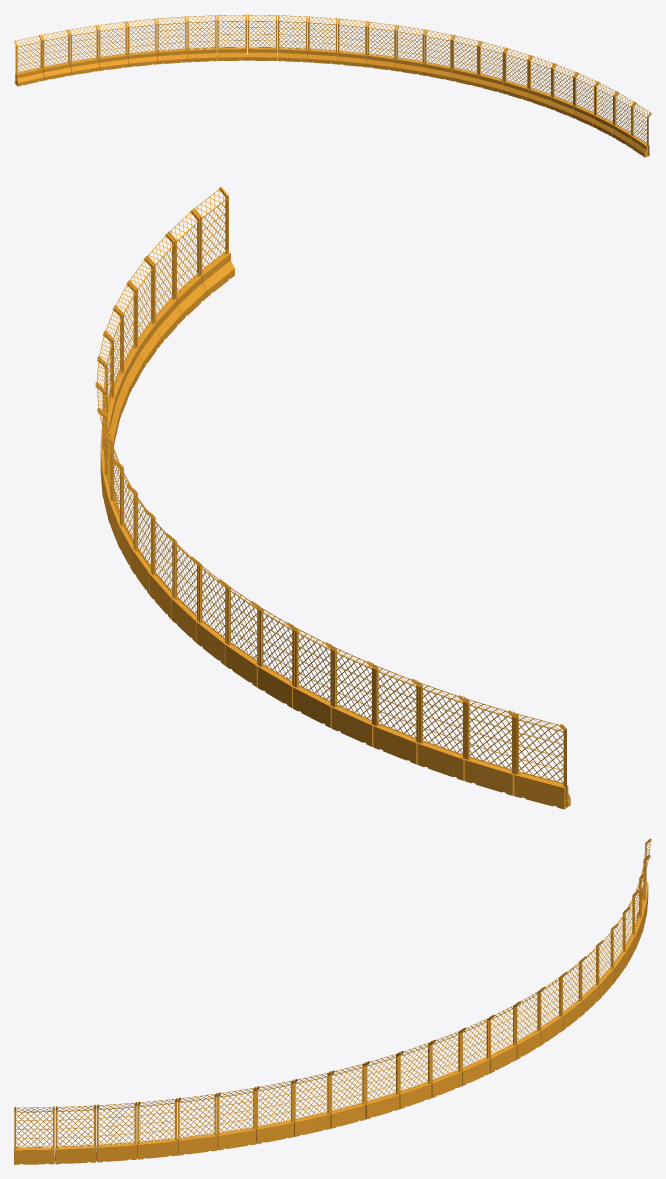
File: SM_Fence_Road_Debrisguard_Net_40m_Corner_Inner.fbx
The picture shows the model from 3 angles, top to bottom: view 1: azimuth 30°, elevation 25°; view 2: azimuth 150°, elevation 25°; view 3: azimuth 270°, elevation 25°; orthographic projection. The views are drawn at different scales.
Visible parts, largest first — view 1: SM_Fence_Road_Debrisguard_Net_40m_Corner_Inner; view 2: SM_Fence_Road_Debrisguard_Net_40m_Corner_Inner; view 3: SM_Fence_Road_Debrisguard_Net_40m_Corner_Inner.
Part boxes in pixels (box(x1,y1,x2,y2)): SM_Fence_Road_Debrisguard_Net_40m_Corner_Inner: box(14, 14, 651, 157); SM_Fence_Road_Debrisguard_Net_40m_Corner_Inner: box(95, 186, 570, 809); SM_Fence_Road_Debrisguard_Net_40m_Corner_Inner: box(14, 838, 651, 1164).
Size of the model in its own units: 39.43 by 4 by 39.31.
